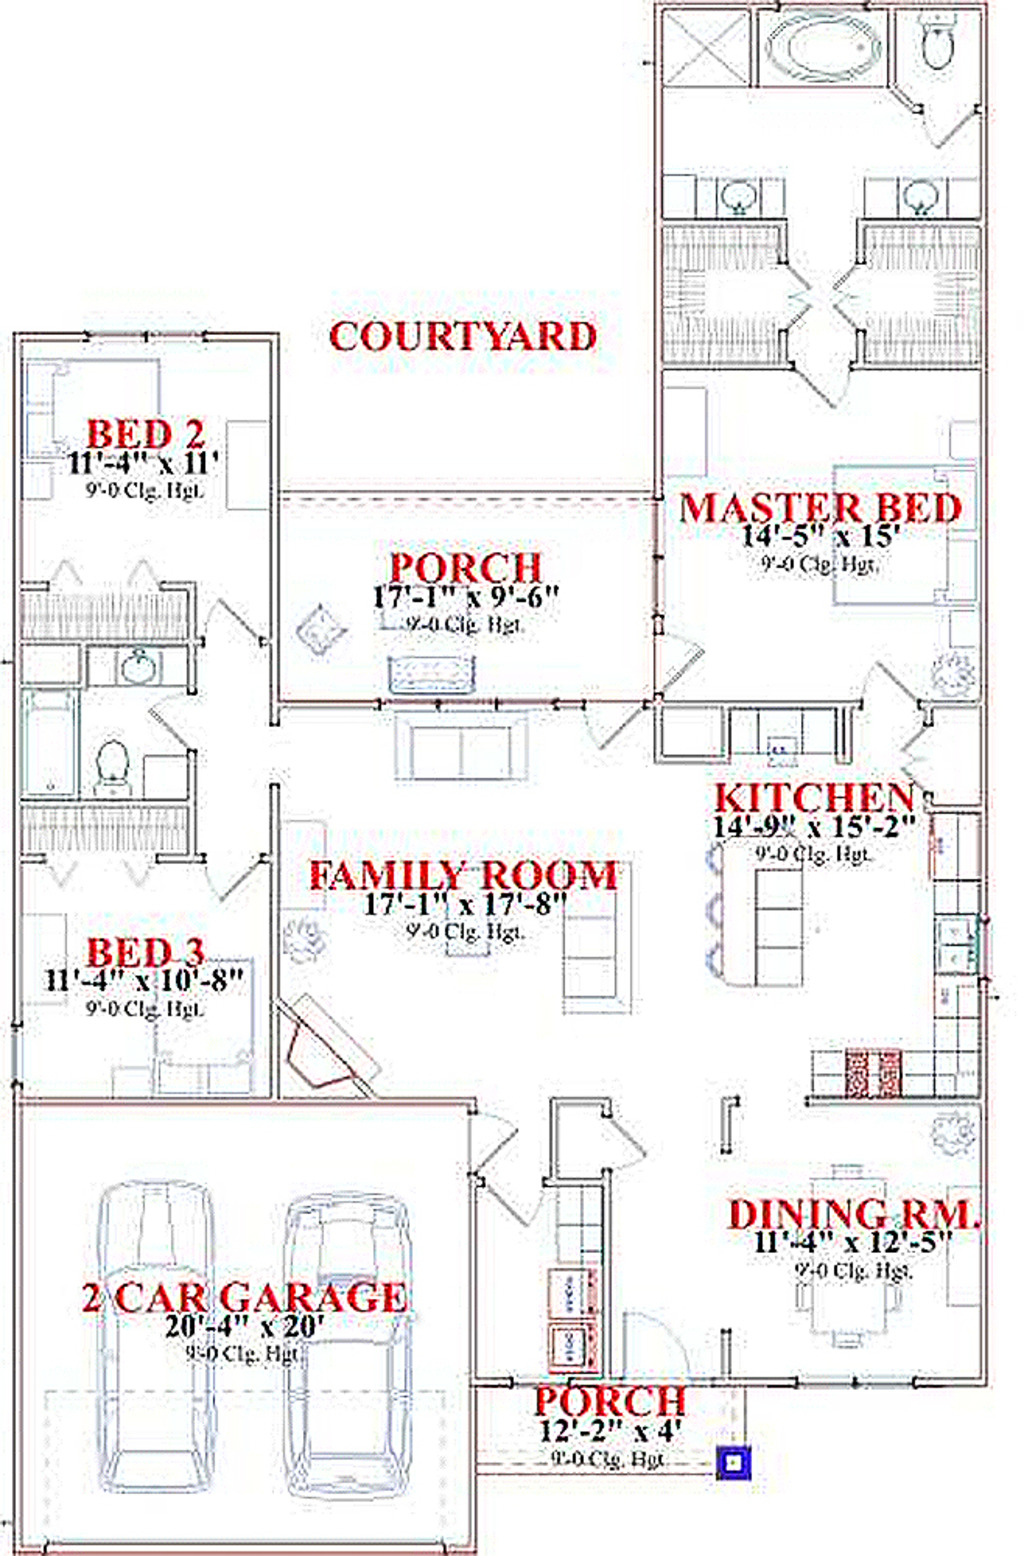bed: (802, 460, 990, 611), (11, 352, 182, 470), (134, 952, 261, 1099)
dining_table: (773, 1152, 919, 1364)
door: (602, 1291, 690, 1389), (746, 255, 817, 338), (795, 350, 869, 422), (639, 623, 707, 696), (482, 1162, 549, 1233), (578, 693, 641, 762), (151, 682, 213, 752), (851, 652, 923, 711), (465, 1106, 523, 1172), (902, 713, 946, 799), (209, 847, 270, 906), (597, 1121, 661, 1174), (919, 99, 978, 155), (203, 601, 258, 652), (834, 262, 869, 328)
kitchen_bar: (697, 783, 829, 998)
large_sink: (899, 8, 985, 82), (90, 728, 143, 816)
large_sofa: (543, 843, 641, 1021)
small_sink: (678, 169, 787, 220), (78, 645, 195, 682), (878, 179, 968, 225)
tub: (765, 5, 891, 89), (17, 677, 90, 799)
twin_sink: (909, 916, 999, 989)
